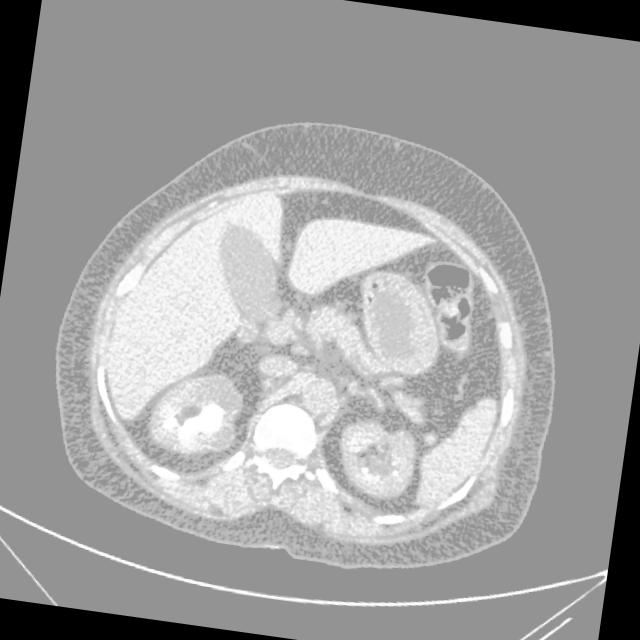STONE: (119, 186, 477, 522)
